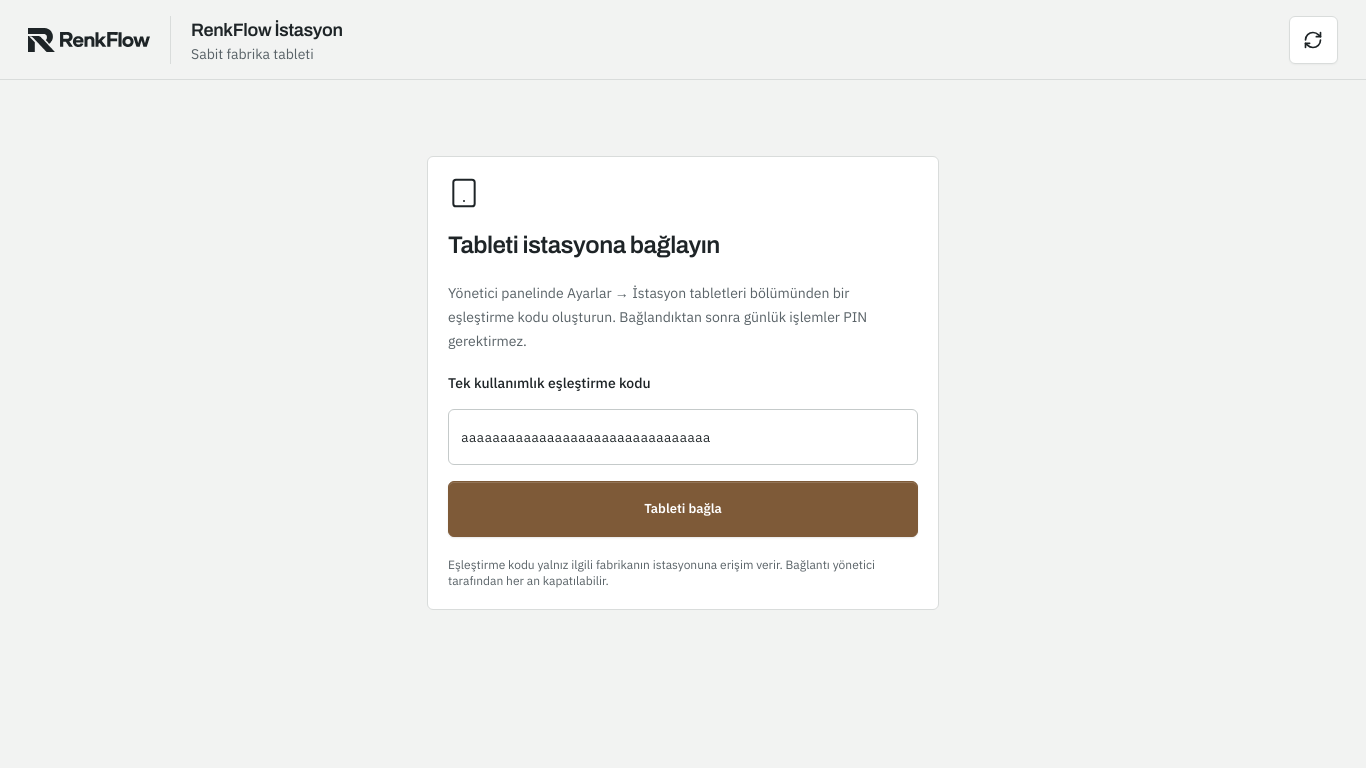
Test: prioritizes a new pairing link over the existing device cookie and loads the new assignment after acceptance
expect the heading "Tableti istasyona bağlayın" is shown: met, box [448,232,720,258]
Click the button "Tableti bağla" at (683, 509), box [448,481,918,537]
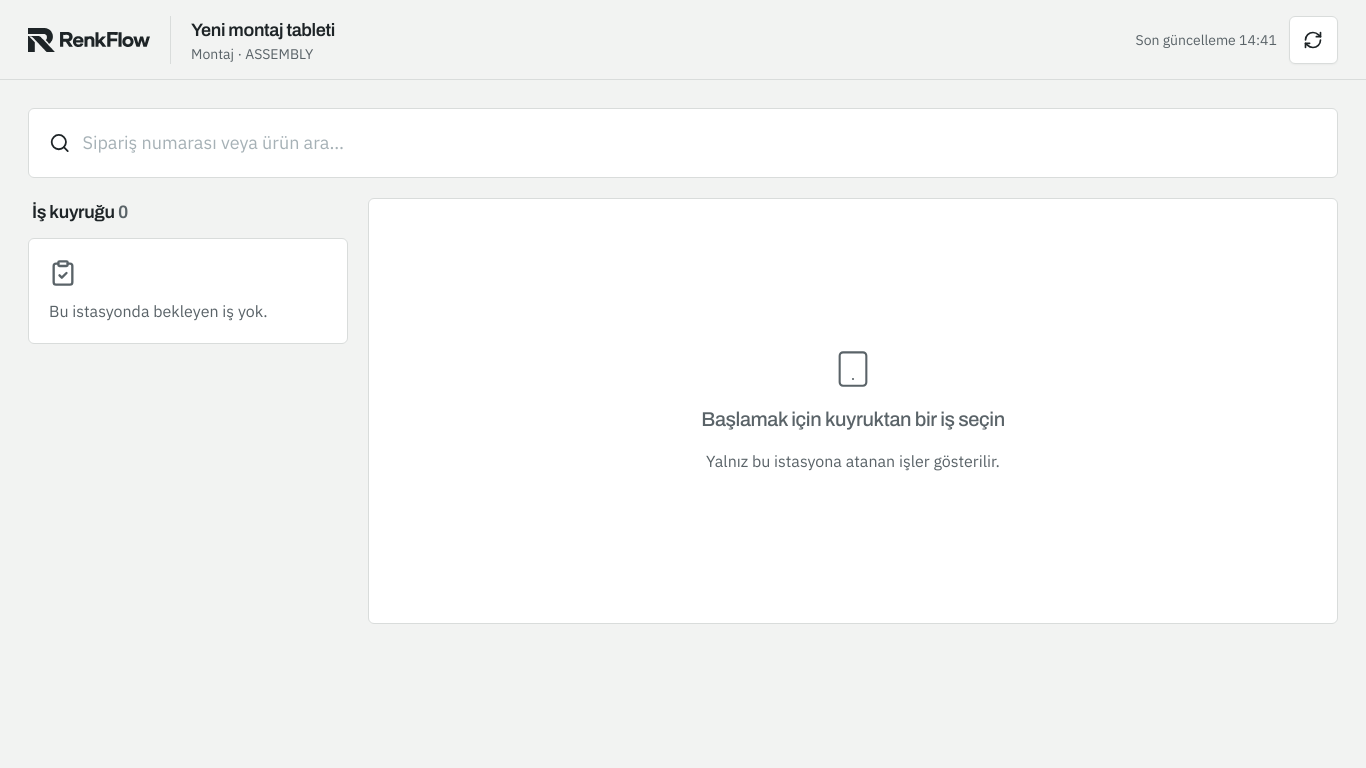
expect the heading "Yeni montaj tableti" is shown: met, box [191,16,335,44]
